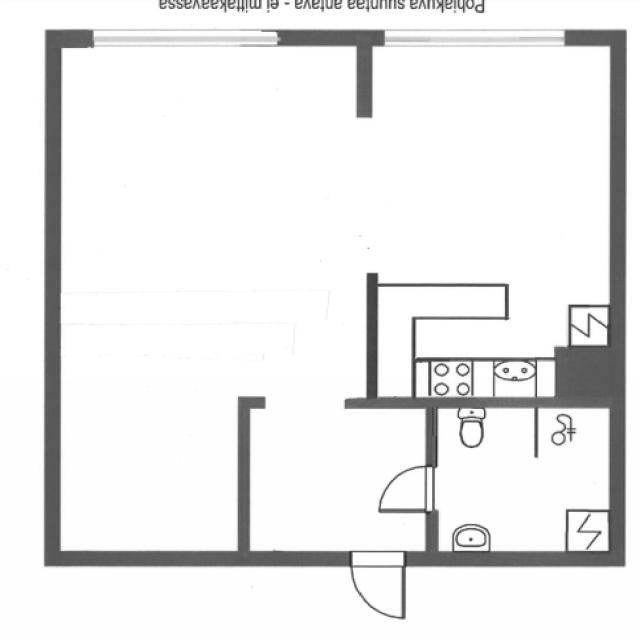door: (349, 556, 407, 623), (376, 462, 431, 513)
window: (89, 28, 287, 46), (384, 30, 581, 48), (257, 393, 349, 416)
zone: (46, 38, 366, 405), (367, 41, 617, 399), (244, 402, 429, 559), (428, 403, 614, 556), (470, 356, 556, 402), (412, 358, 475, 398)
